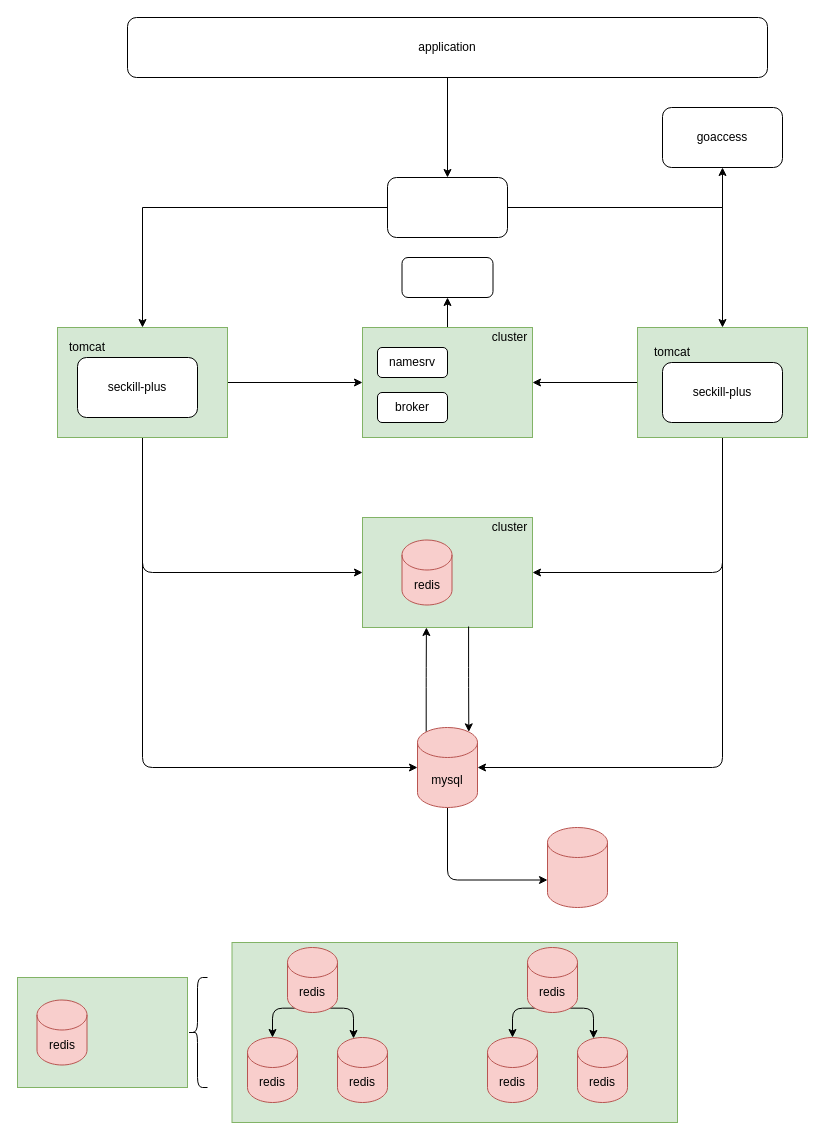
Image size: 825x1140. Some labels were removed from this diagram. The centre of each missing label's shape, as x and y in pixels:
console: (x=447, y=277)
nginx: (x=447, y=207)
slave: (x=577, y=867)
